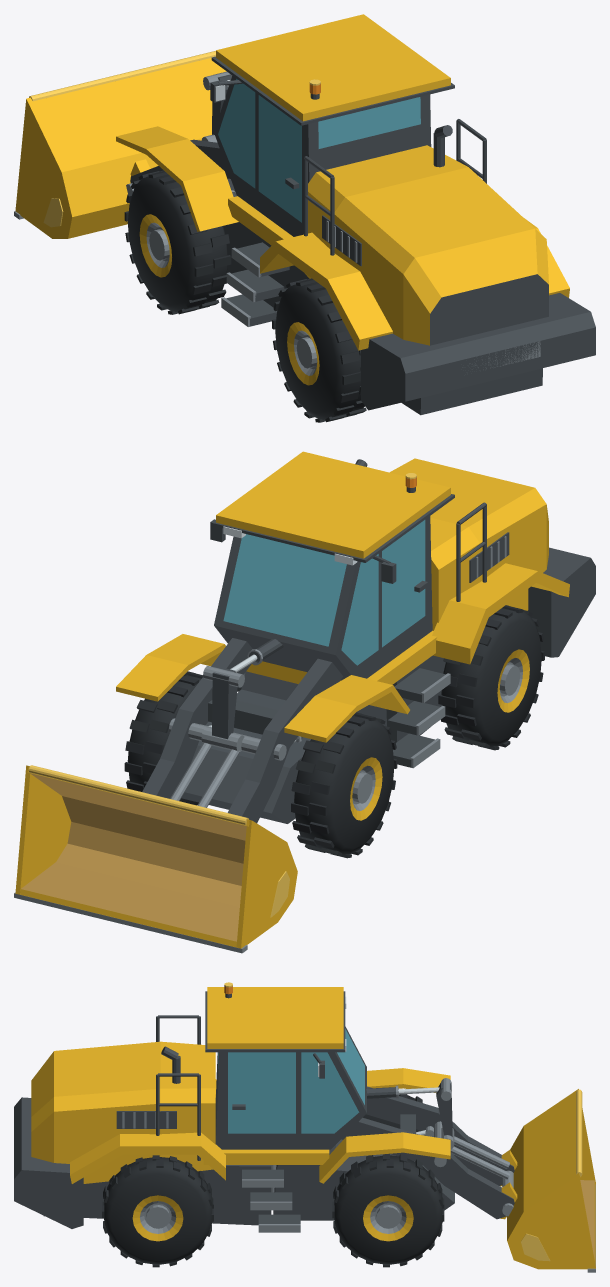
The picture shows the model from 3 angles, top to bottom: view 1: azimuth 30°, elevation 25°; view 2: azimuth 150°, elevation 25°; view 3: azimuth 270°, elevation 25°; orthographic projection. The views are drawn at different scales.
Parts seen in each view (by area): view 1: XC958U_EngineHood, XC958U_Cabin, XC958U_Bucket, XC958U_Counterweight, XC958U_Wheel_FL, XC958U_Wheel_RL, XC958U_RearFenders_Steps, XC958U_FrontFenders, XC958U_RearFrame, XC958U_CabAccessories, XC958U_FrontFrame, XC958U_LiftArms (+1 smaller); view 2: XC958U_Cabin, XC958U_Bucket, XC958U_EngineHood, XC958U_Wheel_FL, XC958U_LiftArms, XC958U_Wheel_RL, XC958U_RearFenders_Steps, XC958U_FrontFenders, XC958U_FrontFrame, XC958U_Counterweight, XC958U_Wheel_FR, XC958U_RearFrame (+3 smaller); view 3: XC958U_Cabin, XC958U_EngineHood, XC958U_Bucket, XC958U_Wheel_FR, XC958U_Wheel_RR, XC958U_LiftArms, XC958U_RearFenders_Steps, XC958U_RearFrame, XC958U_Counterweight, XC958U_FrontFenders, XC958U_FrontFrame, XC958U_CabAccessories (+2 smaller).
Boxes of the visible parts, bbox=[...] form: XC958U_EngineHood: bbox=[304, 145, 548, 345]; XC958U_Cabin: bbox=[211, 14, 454, 236]; XC958U_Bucket: bbox=[14, 51, 226, 238]; XC958U_Counterweight: bbox=[361, 293, 595, 410]; XC958U_Wheel_FL: bbox=[124, 170, 231, 314]; XC958U_Wheel_RL: bbox=[272, 278, 366, 422]; XC958U_RearFenders_Steps: bbox=[221, 218, 569, 350]; XC958U_FrontFenders: bbox=[116, 126, 238, 231]; XC958U_RearFrame: bbox=[228, 196, 542, 415]; XC958U_CabAccessories: bbox=[210, 79, 486, 255]; XC958U_FrontFrame: bbox=[223, 178, 274, 307]; XC958U_LiftArms: bbox=[126, 139, 230, 194]; XC958U_Cabin: bbox=[211, 451, 454, 680]; XC958U_Bucket: bbox=[14, 765, 297, 953]; XC958U_EngineHood: bbox=[389, 458, 548, 630]; XC958U_Wheel_FL: bbox=[291, 712, 397, 858]; XC958U_LiftArms: bbox=[142, 638, 342, 823]; XC958U_Wheel_RL: bbox=[438, 605, 544, 750]; XC958U_RearFenders_Steps: bbox=[237, 563, 569, 768]; XC958U_FrontFenders: bbox=[116, 634, 409, 742]; XC958U_FrontFrame: bbox=[181, 671, 386, 823]; XC958U_Counterweight: bbox=[527, 547, 595, 657]; XC958U_Wheel_FR: bbox=[124, 671, 203, 805]; XC958U_RearFrame: bbox=[246, 630, 445, 742]; XC958U_Cabin: bbox=[205, 987, 366, 1149]; XC958U_EngineHood: bbox=[31, 1041, 215, 1183]; XC958U_Bucket: bbox=[500, 1089, 595, 1272]; XC958U_Wheel_FR: bbox=[332, 1153, 444, 1267]; XC958U_Wheel_RR: bbox=[102, 1155, 213, 1267]; XC958U_LiftArms: bbox=[341, 1086, 514, 1219]; XC958U_RearFenders_Steps: bbox=[70, 1079, 300, 1232]; XC958U_RearFrame: bbox=[44, 1149, 329, 1225]; XC958U_Counterweight: bbox=[14, 1097, 83, 1228]; XC958U_FrontFenders: bbox=[319, 1068, 450, 1183]; XC958U_FrontFrame: bbox=[271, 1139, 454, 1220]; XC958U_CabAccessories: bbox=[156, 982, 346, 1160].
Bounding box in the file's own units: 3 × 3.63 × 8.47.
